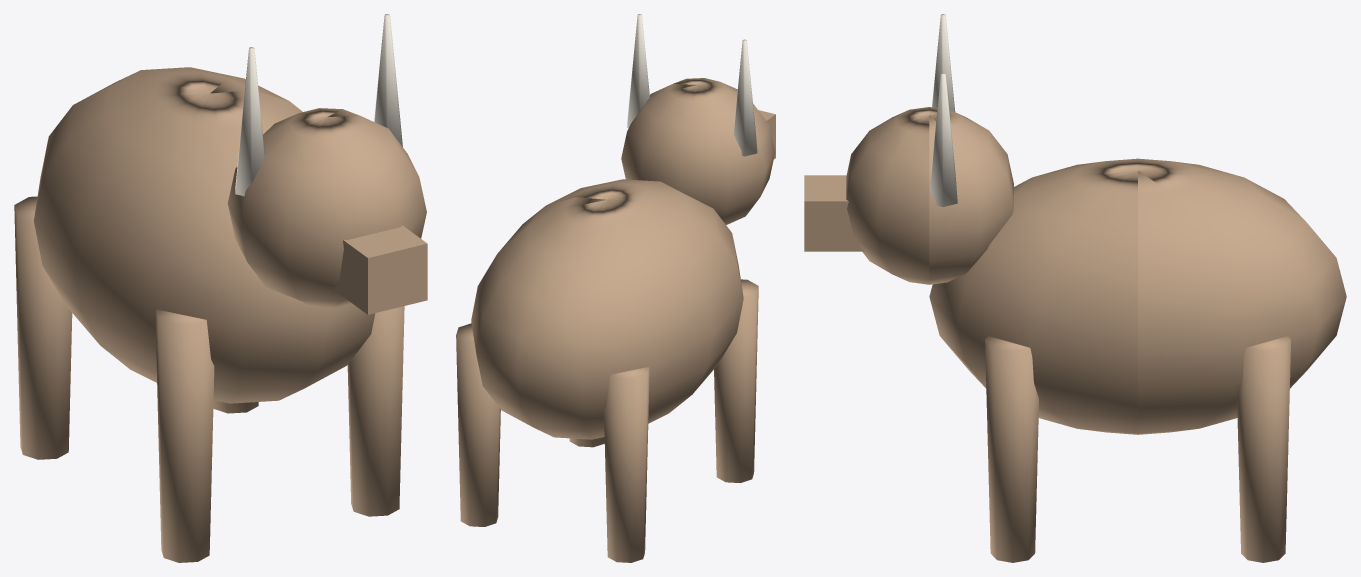
File: 53987ca7-8919-4c18-85cb-1326ebe4531c.glb
3 views of the same model, side by side, from view 1: azimuth 30°, elevation 25°; view 2: azimuth 150°, elevation 25°; view 3: azimuth 270°, elevation 25° (orthographic). The views are drawn at different scales.
Visible parts, largest first — view 1: Generated3DMesh; view 2: Generated3DMesh; view 3: Generated3DMesh.
Part boxes in pixels (x1,y1,x2,y2): Generated3DMesh: (14, 14, 427, 562); Generated3DMesh: (456, 14, 775, 562); Generated3DMesh: (804, 14, 1346, 562).
Size of the model in its own units: 1 by 1.86 by 1.95.
